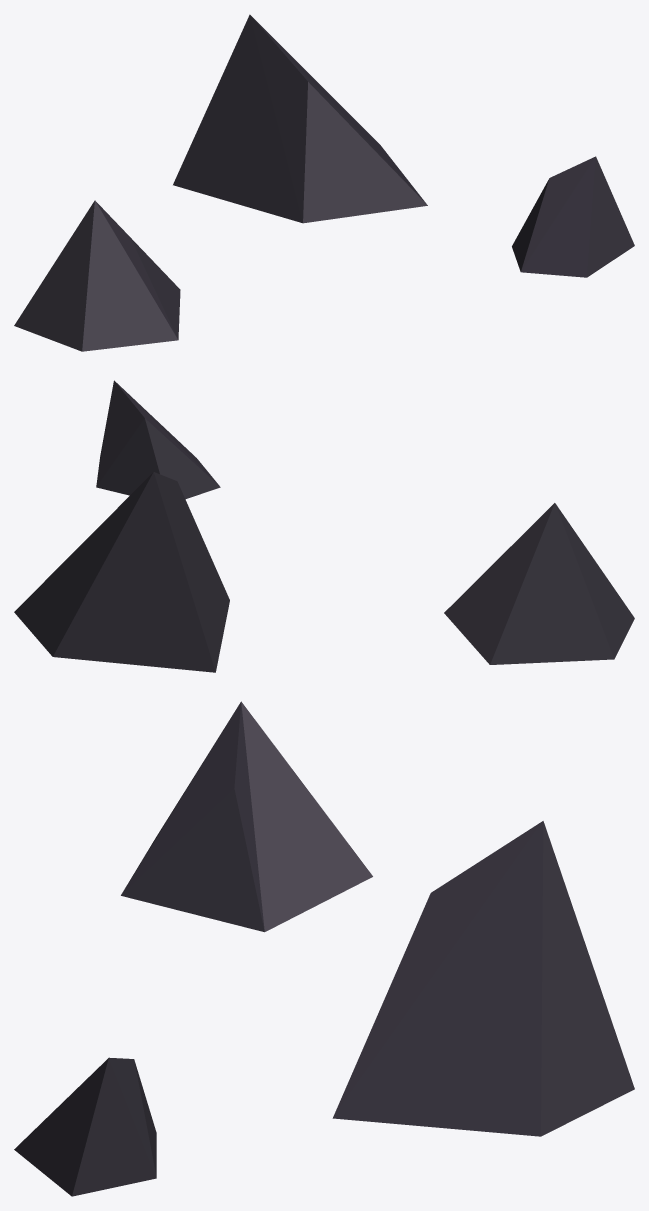
Rendered from env_ground_pebbles-wqoWg7sy.glb.
The picture shows the model from 3 angles, top to bottom: view 1: azimuth 30°, elevation 25°; view 2: azimuth 150°, elevation 25°; view 3: azimuth 270°, elevation 25°; orthographic projection. The views are drawn at different scales.
Visible parts, largest first — view 1: env_ground_pebbles; view 2: env_ground_pebbles; view 3: env_ground_pebbles.
Part boxes in pixels (left/top/right/bottom): env_ground_pebbles: left=14, top=14, right=634, bottom=351; env_ground_pebbles: left=14, top=380, right=634, bottom=672; env_ground_pebbles: left=14, top=701, right=634, bottom=1196.
Size of the model in its own units: 0.2657 by 0.075 by 0.1858.
Materials: 1 (1 with a texture image).
